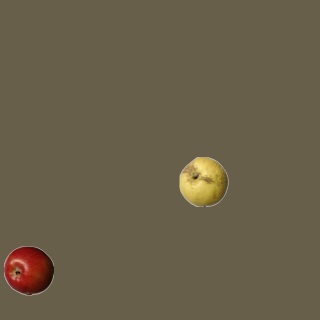Apple Braeburn: (3, 245, 53, 295)
Apple Golden 1: (178, 156, 228, 206)
